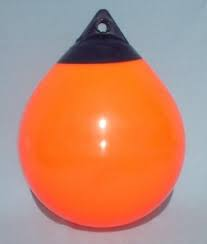buoy: (18, 61, 185, 229)
